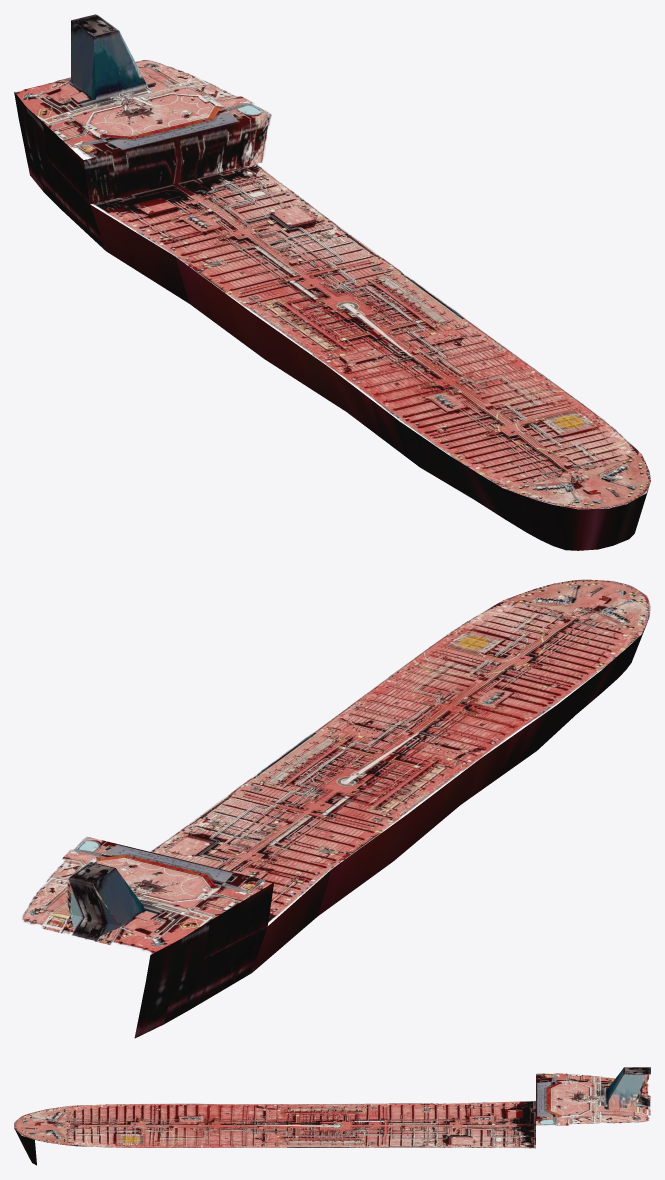
The model's file is boat.glb.
The picture shows the model from 3 angles, top to bottom: view 1: azimuth 30°, elevation 25°; view 2: azimuth 150°, elevation 25°; view 3: azimuth 270°, elevation 25°; orthographic projection. The views are drawn at different scales.
Visible parts, largest first — view 1: boat; view 2: boat; view 3: boat.
Boxes of the visible parts, x1,y1,x2,y2 form: boat: (14, 14, 650, 550); boat: (22, 579, 650, 1038); boat: (14, 1067, 650, 1165).
Size of what is drawn, in the model's own units: 7.18 by 5.19 by 35.02.
Materials: 1 (1 with a texture image).
